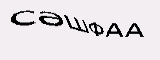А: (124, 22, 143, 39), (105, 22, 123, 39)
С: (10, 9, 36, 27)
Ф: (88, 21, 104, 38)
Ш: (64, 15, 89, 35)
Ә: (39, 10, 63, 27)
